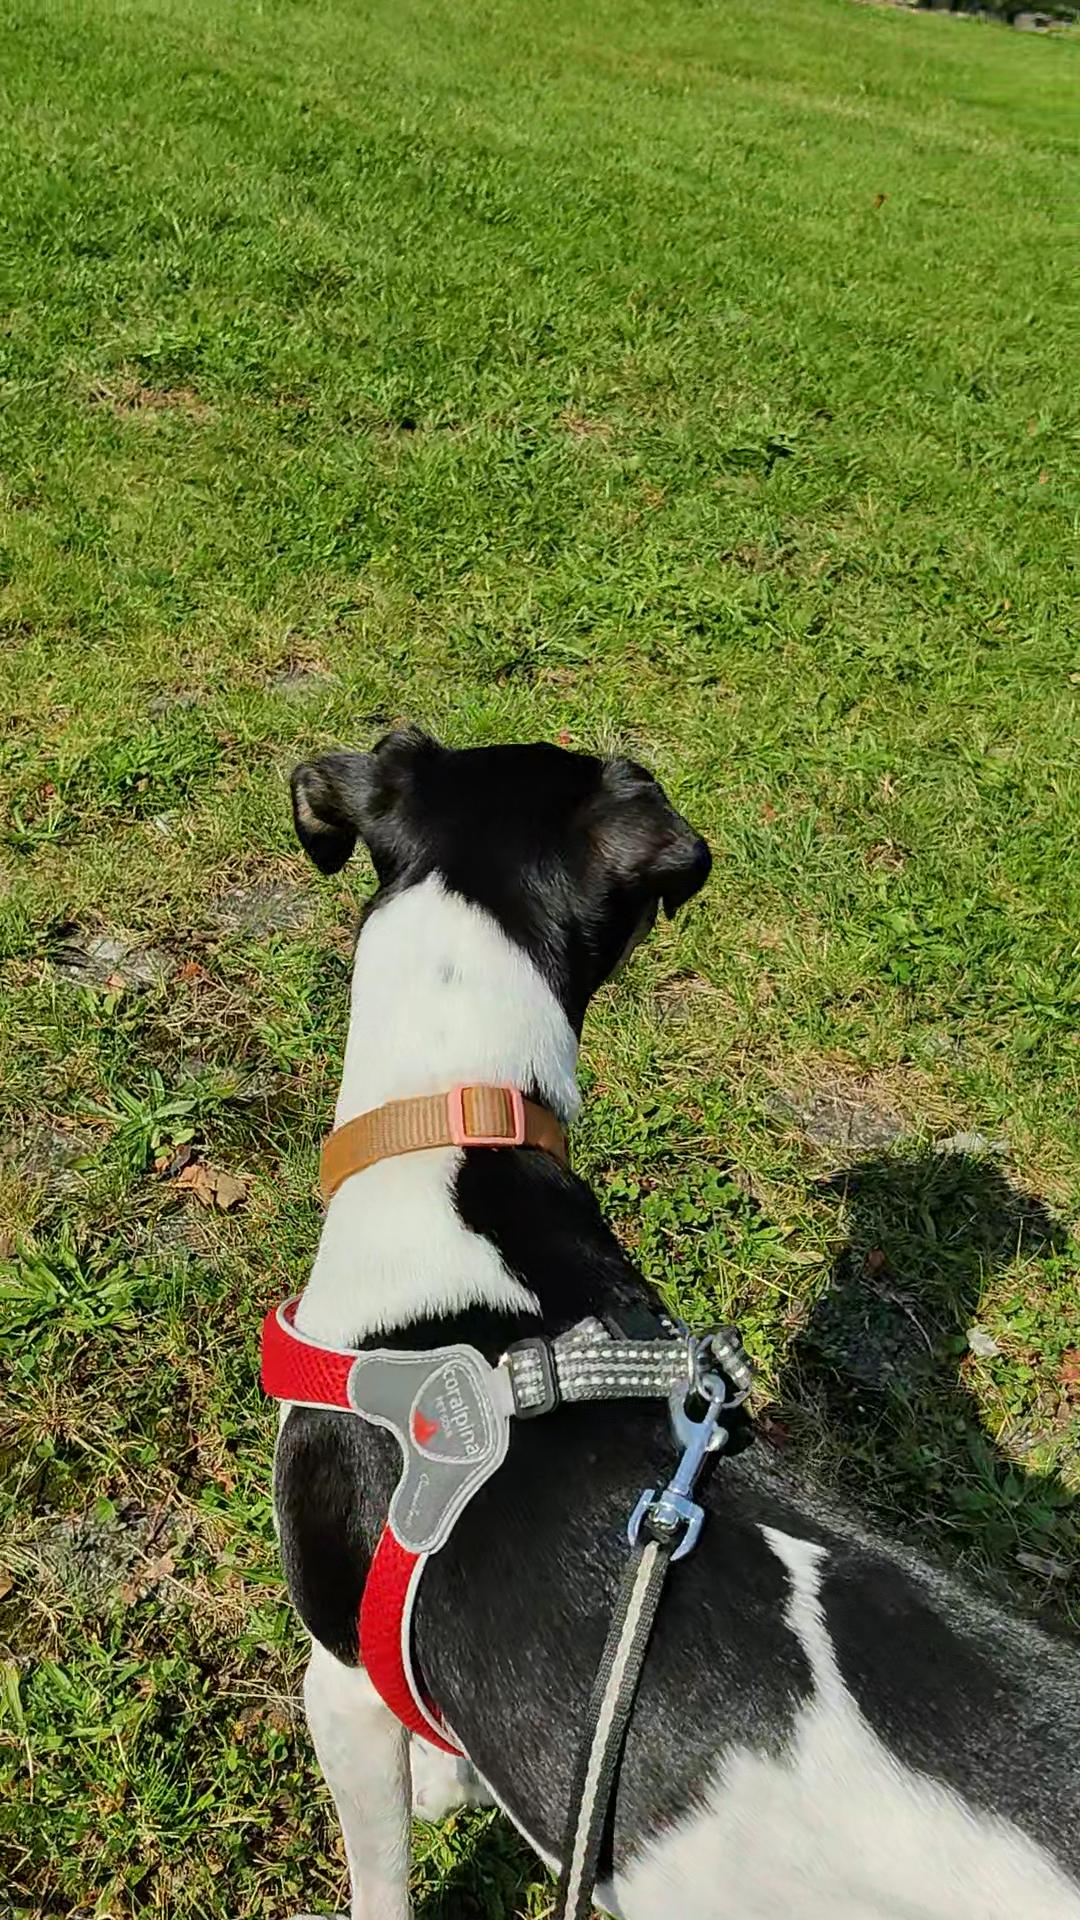Dog: (225, 694, 1079, 1919)
